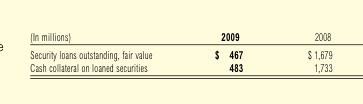table: (29, 29, 331, 73)
table column: (29, 29, 183, 73), (183, 29, 274, 73), (274, 29, 331, 73)
table column header: (29, 29, 331, 44)
table row: (29, 44, 331, 60), (29, 29, 331, 44), (29, 60, 331, 73)
